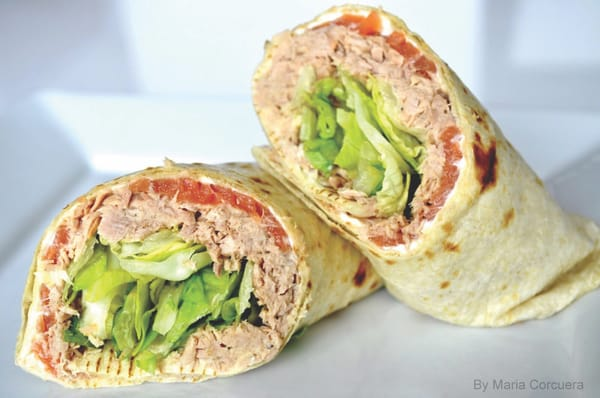soup: (250, 5, 600, 329), (16, 159, 384, 386)
